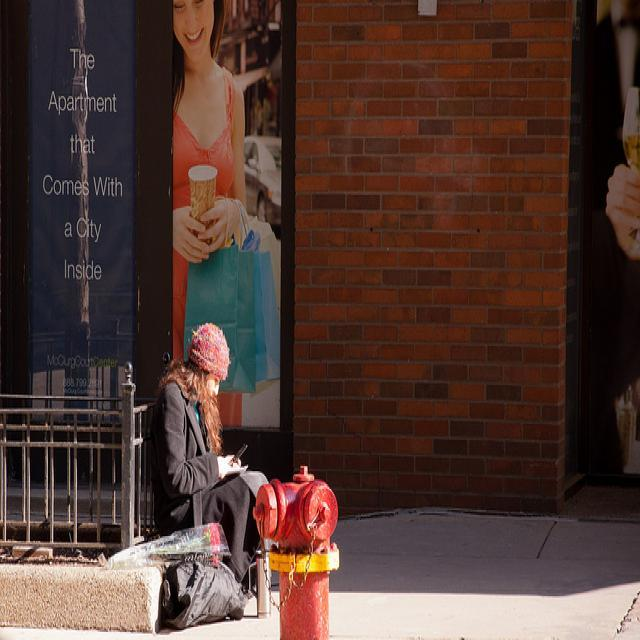fire_hydrant: (252, 464, 339, 640)
